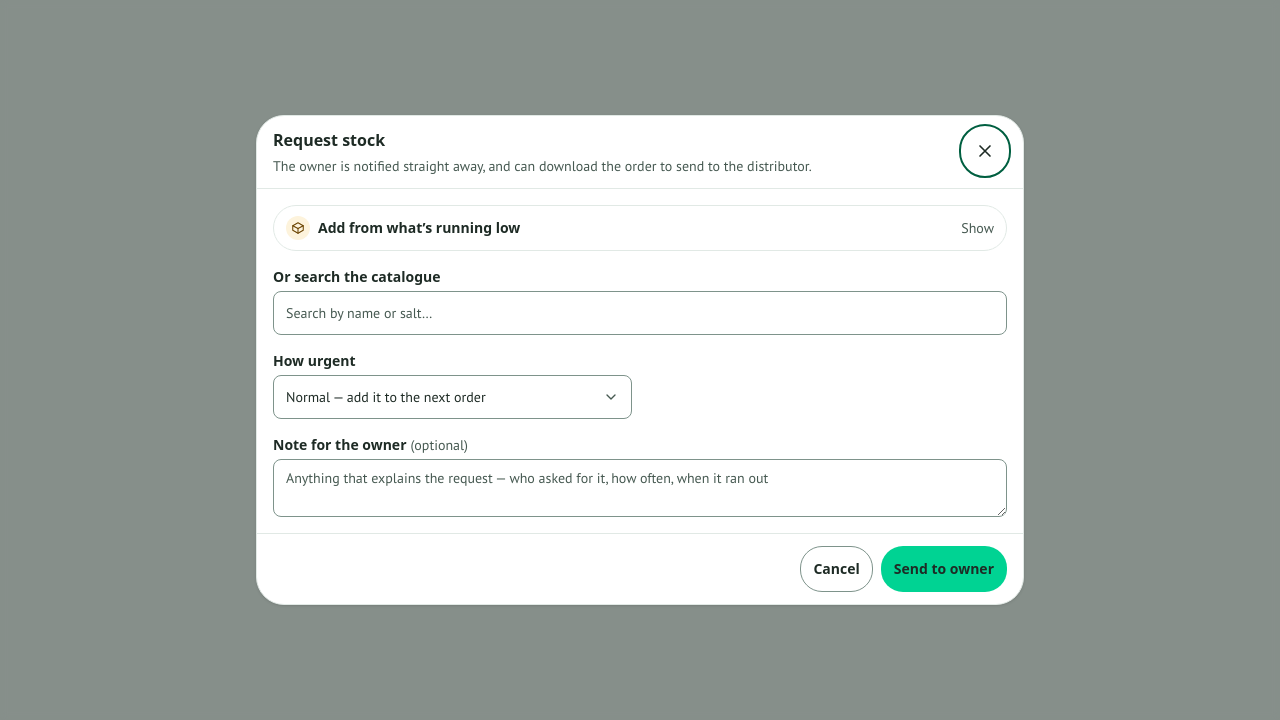
Scenario: adding from the low-stock list › a medicine already on the request is not offered twice
This screenshot has width=1280, height=720.
Click the button "Add from what’s running low Show": (419, 228) [274, 206, 1006, 250]
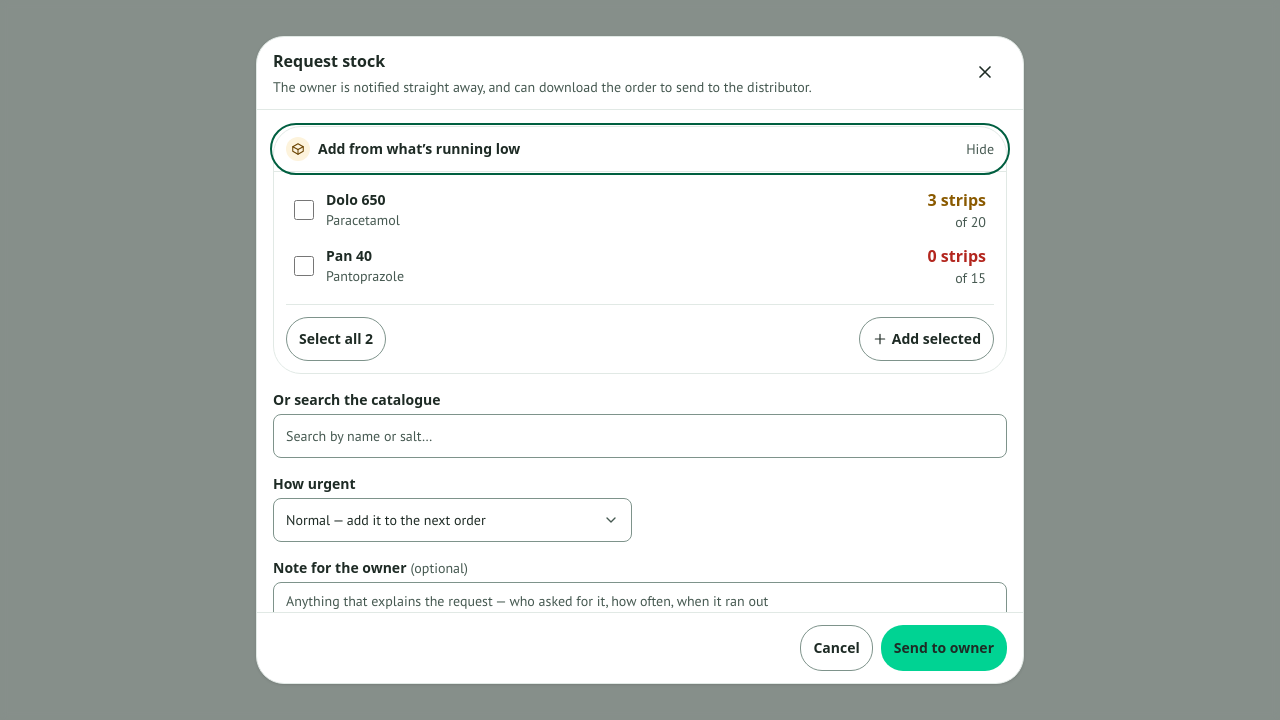
Expected: the checkbox labelled "Dolo 650 Paracetamol 3 strips of 20" is shown, [294, 200, 314, 220]
Click the button "Select all 2": (336, 339) [286, 317, 386, 361]
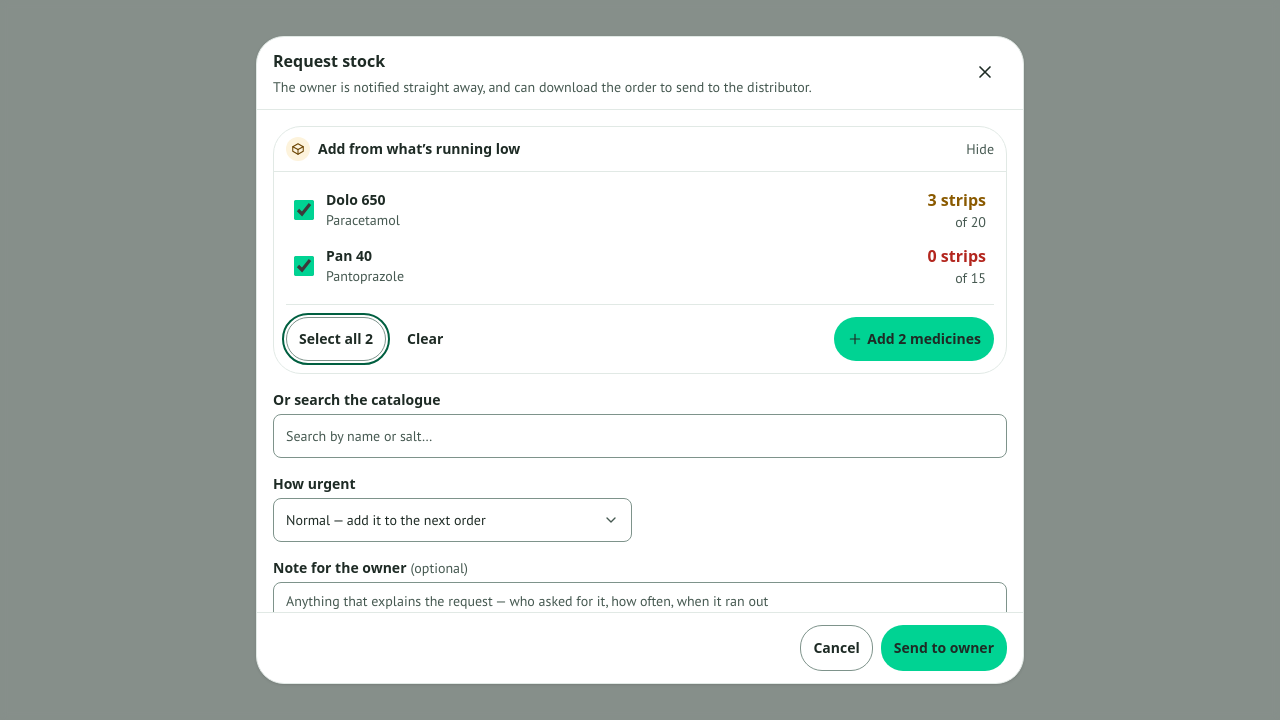
Click the button "Add 2 medicines": (914, 339) [834, 317, 994, 361]
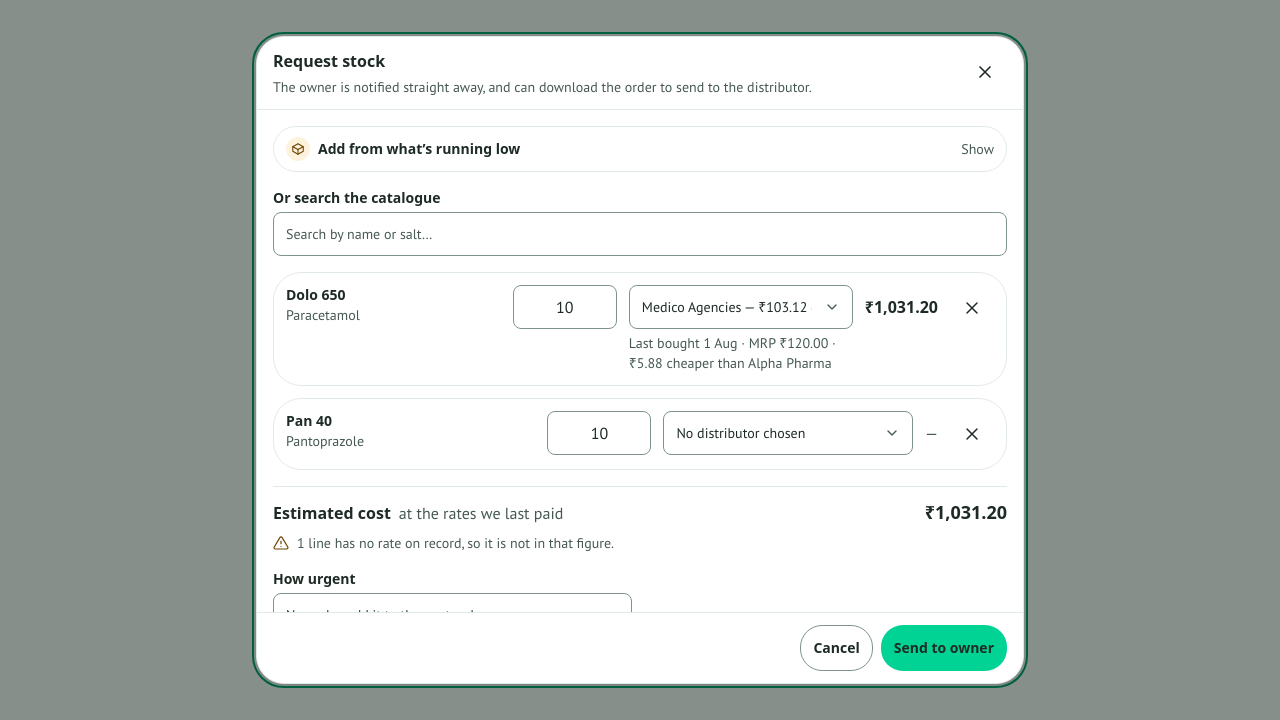
Click the button "Add from what’s running low Show": (419, 148) [274, 127, 1006, 171]
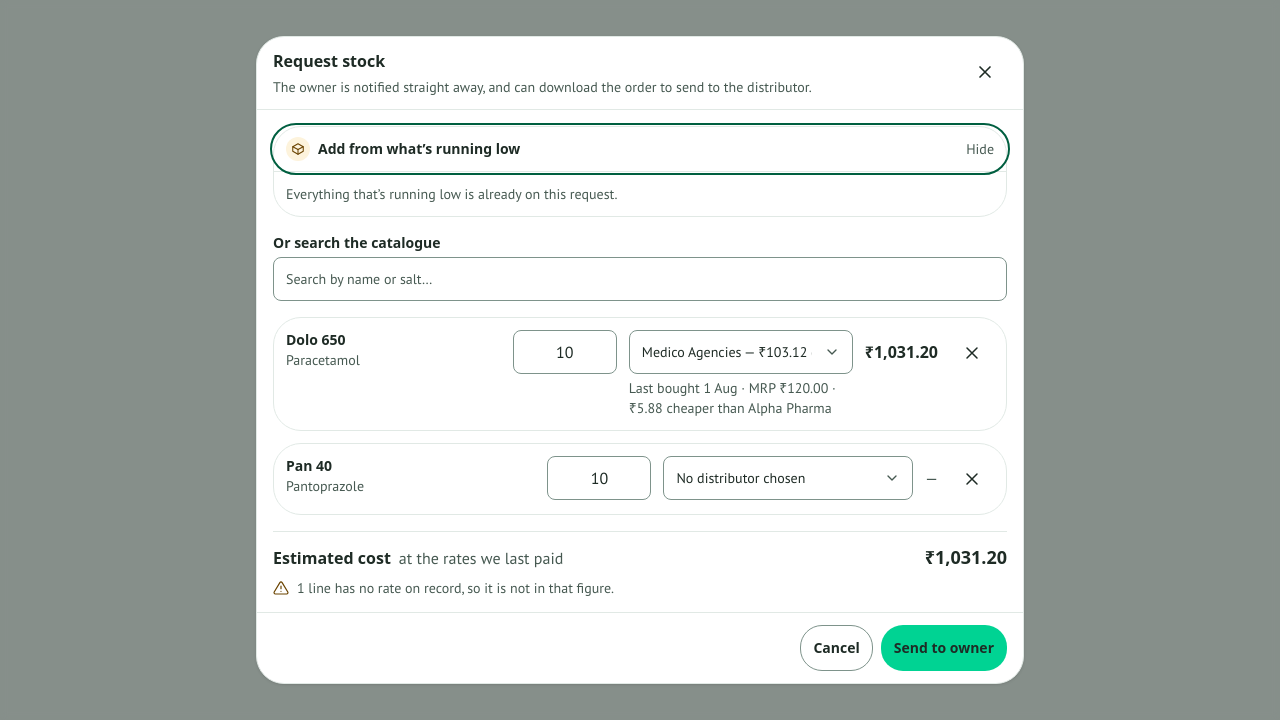
Expected: the text "Everything that’s running low is already on this request." is shown, [286, 185, 618, 203]
